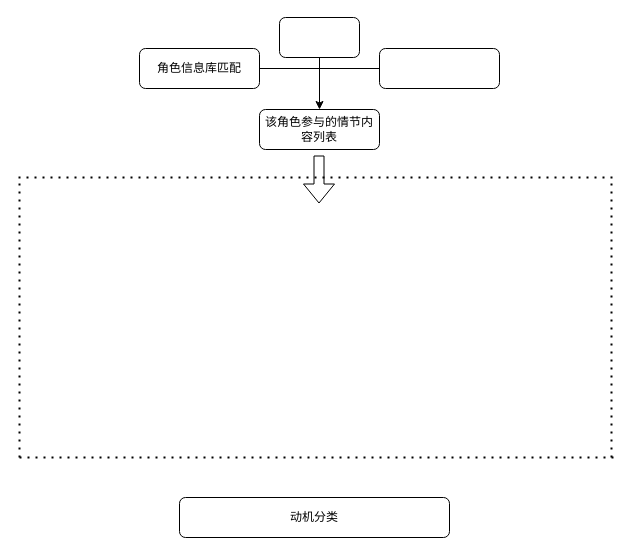
The diagram is 638 pixels wide and 555 high, and some of its shapes have lost their labels. The centre of each missing label's shape, as x and y in pixels:
"情节信息库" belongs at (439,68).
"输入角色" belongs at (319,37).
